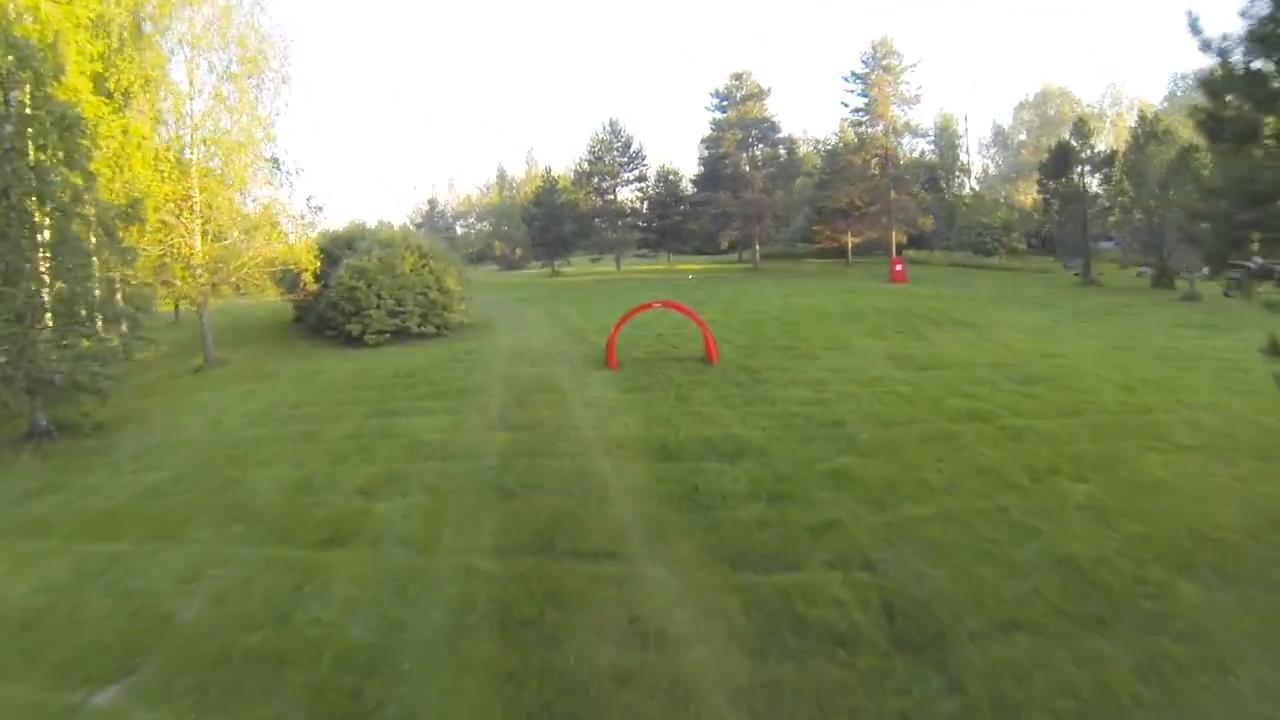gate: (599, 296, 723, 370)
